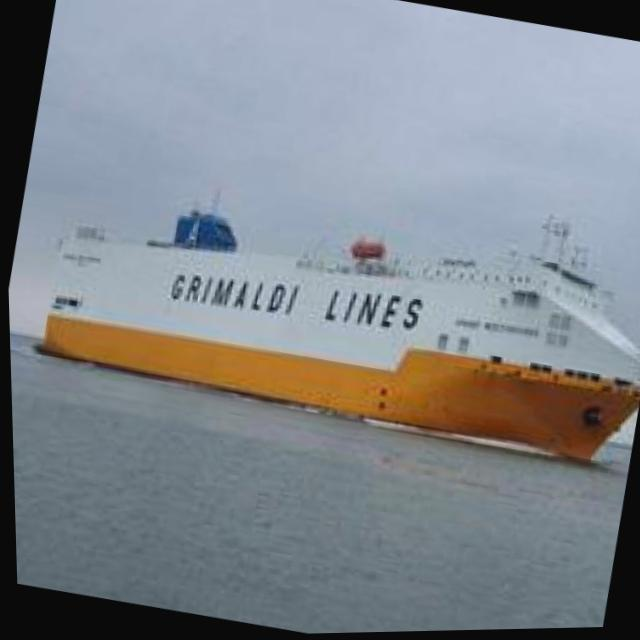ship2: (39, 216, 640, 470)
